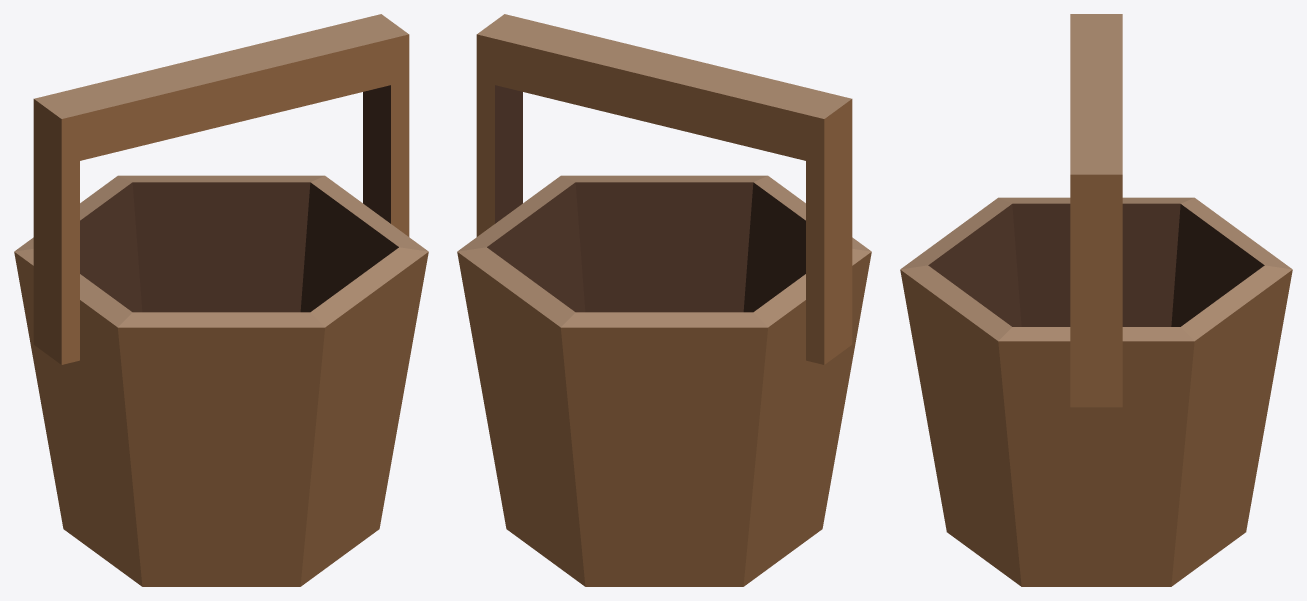
File: TB_D_Prop_HBucket_B.FBX
3 renders of one model, left to right at view 1: azimuth 30°, elevation 25°; view 2: azimuth 150°, elevation 25°; view 3: azimuth 270°, elevation 25°, orthographic. The views are drawn at different scales.
Parts seen in each view (by area): view 1: TB_D_Prop_HBucket_B; view 2: TB_D_Prop_HBucket_B; view 3: TB_D_Prop_HBucket_B.
Boxes of the visible parts, x1,y1,x2,y2 form: TB_D_Prop_HBucket_B: (14,14,428,586); TB_D_Prop_HBucket_B: (457,14,871,586); TB_D_Prop_HBucket_B: (900,14,1292,586).
Size of the model in its own units: 0.5879 by 0.7477 by 0.6076.
